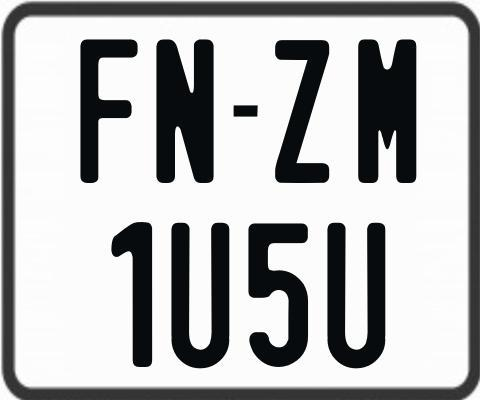1: (108, 222, 152, 368)
5: (246, 222, 310, 369)
F: (77, 38, 136, 185)
M: (356, 39, 419, 187)
N: (156, 38, 217, 183)
U: (325, 220, 388, 365), (168, 222, 230, 367)
Z: (272, 40, 331, 188)
